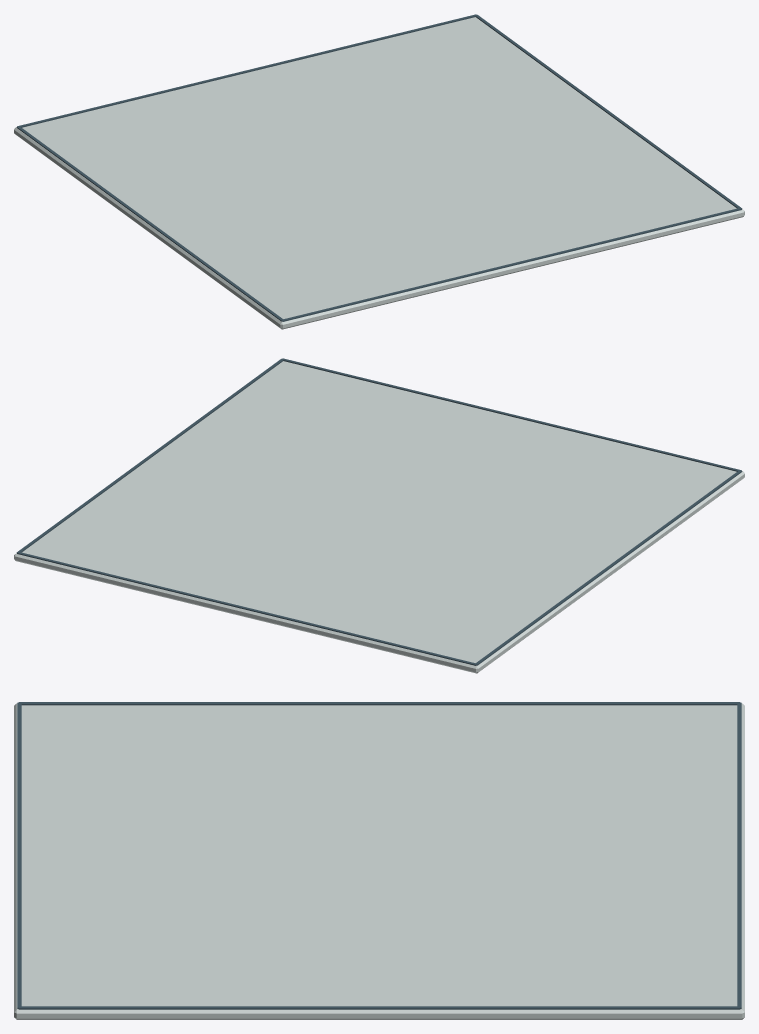
File: ground-concrete.glb
The picture shows the model from 3 angles, top to bottom: view 1: azimuth 30°, elevation 25°; view 2: azimuth 150°, elevation 25°; view 3: azimuth 270°, elevation 25°; orthographic projection. The views are drawn at different scales.
Visible parts, largest first — view 1: surface, asset_ground-concrete__FP_Dark; view 2: surface, asset_ground-concrete__FP_Dark; view 3: surface, asset_ground-concrete__FP_Dark.
Boxes of the visible parts, x1=… form: surface: x1=14, y1=17, x2=744, y2=329; asset_ground-concrete__FP_Dark: x1=16, y1=14, x2=742, y2=321; surface: x1=14, y1=361, x2=744, y2=673; asset_ground-concrete__FP_Dark: x1=16, y1=358, x2=742, y2=665; surface: x1=14, y1=703, x2=744, y2=1019; asset_ground-concrete__FP_Dark: x1=17, y1=702, x2=741, y2=1009.
Size of the model in its own units: 4 by 0.068 by 4.
